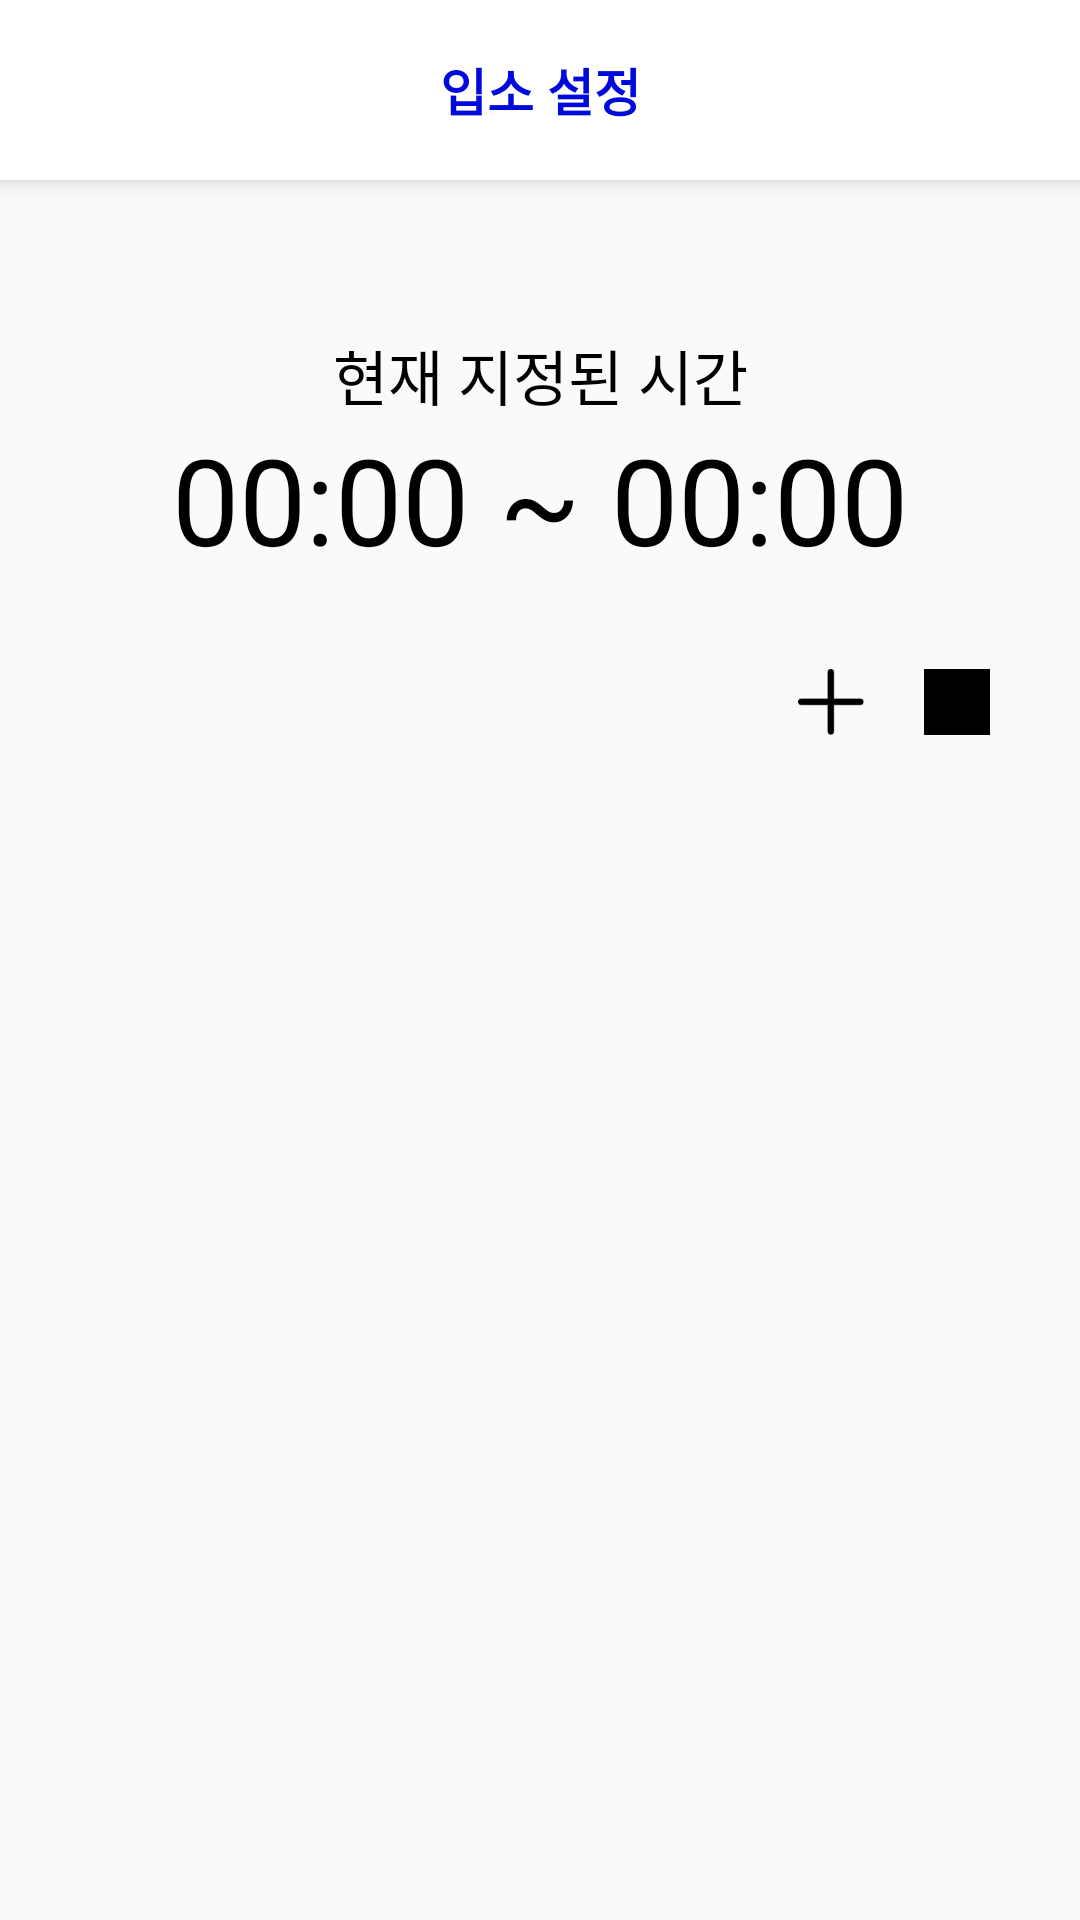

Icon bounding boxes for this 1080 x 1920 phone screenshot, format (x1, y1, x2, y2):
add: (798, 669, 864, 735)
